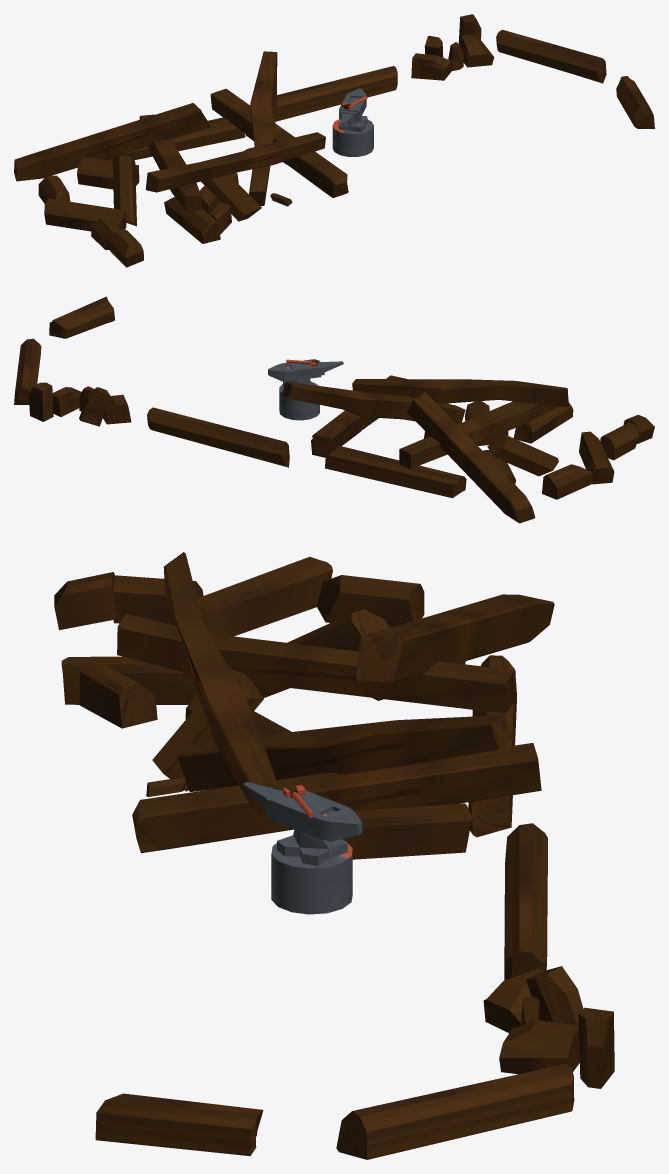
Rendered from BSLevel1.fbx.
3 renders of one model, top to bottom at view 1: azimuth 30°, elevation 25°; view 2: azimuth 150°, elevation 25°; view 3: azimuth 270°, elevation 25°, orthographic. The views are drawn at different scales.
Visible parts, largest first — view 1: BSLevel1; view 2: BSLevel1; view 3: BSLevel1.
Boxes of the visible parts, box(x1,y1,x2,y2) form: BSLevel1: box(14, 14, 654, 267); BSLevel1: box(14, 296, 654, 523); BSLevel1: box(54, 552, 614, 1159).
Size of the model in its own units: 32.36 by 4.55 by 13.61.
